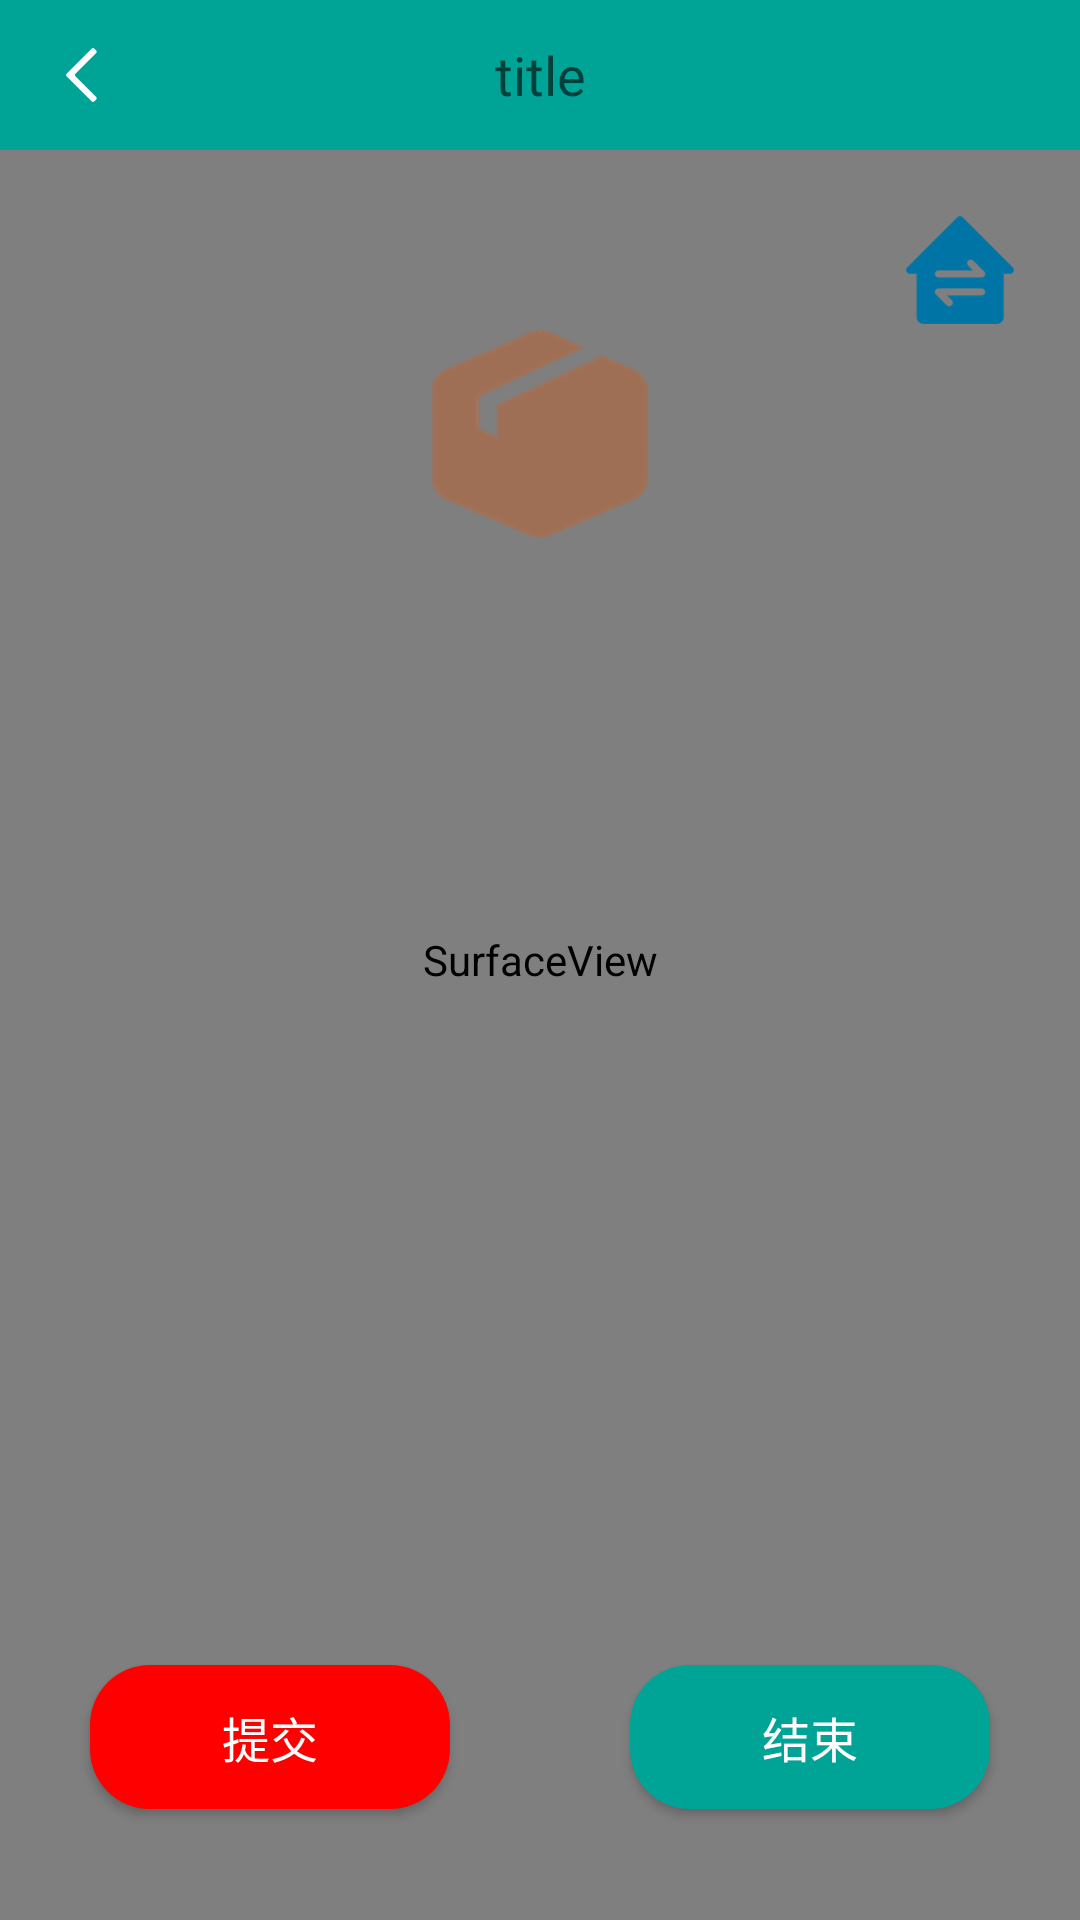

Icon bounding boxes for this 1080 x 1920 phone screenshot, format [x1,y1,x2,y2]:
home: [906,216,1014,324]
